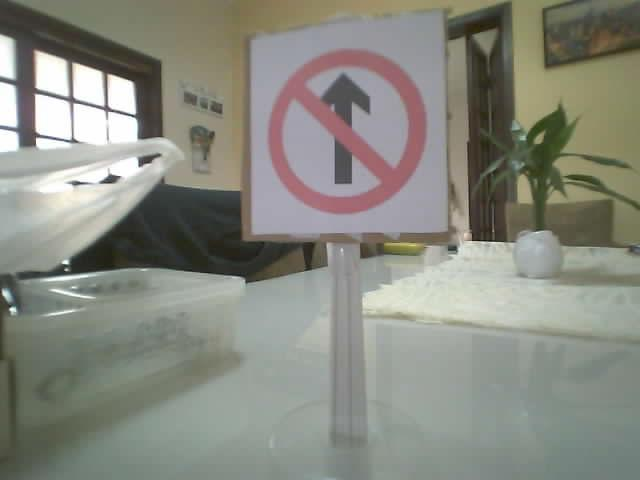R-3_sentido-proibido: (266, 47, 428, 214)
